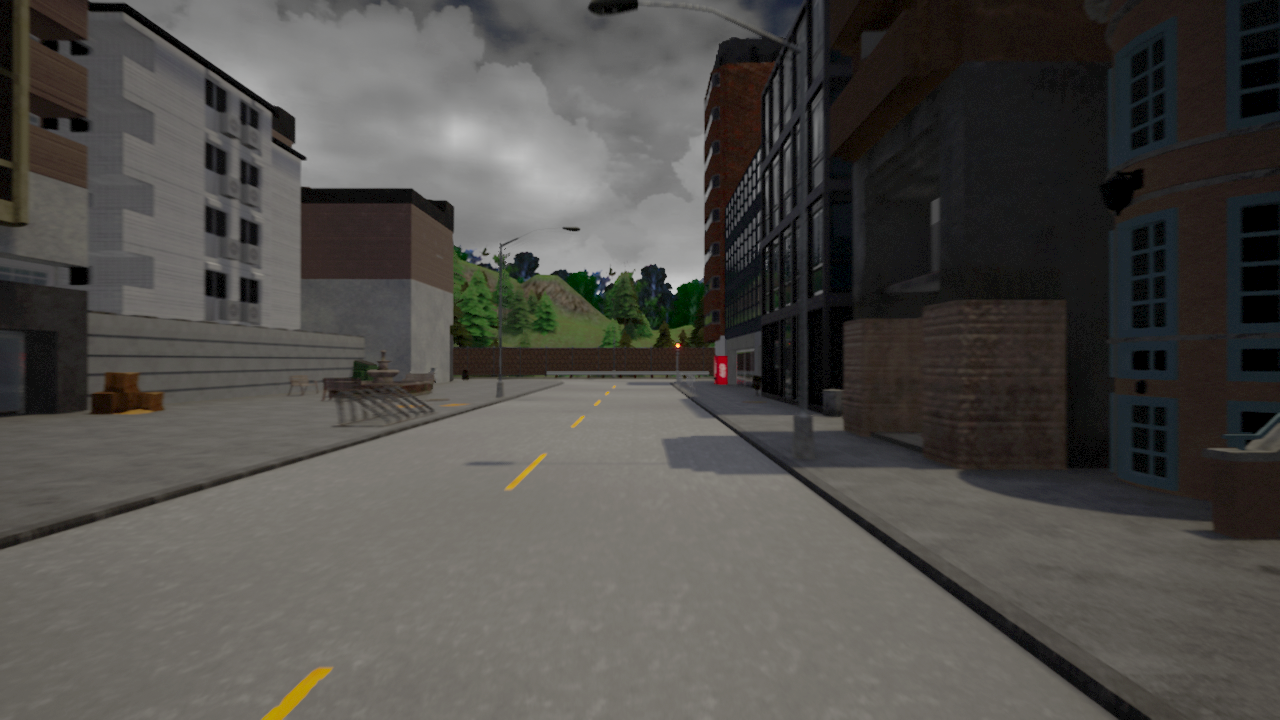red: (674, 342, 680, 357)
